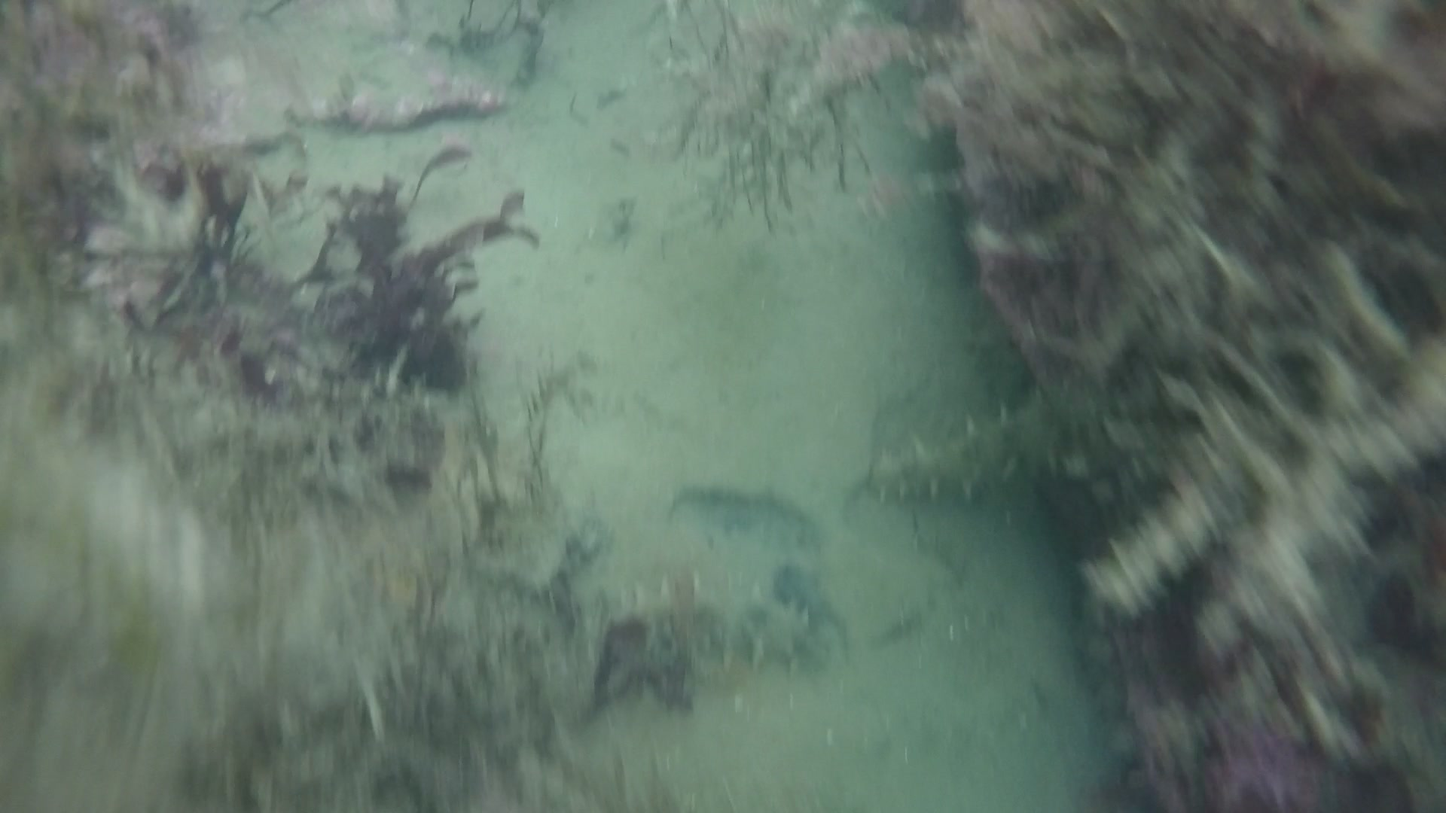echinus: (552, 577, 834, 676), (864, 382, 1086, 504), (670, 473, 818, 550)
